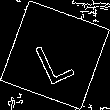L_NW: (30, 25, 80, 85)
